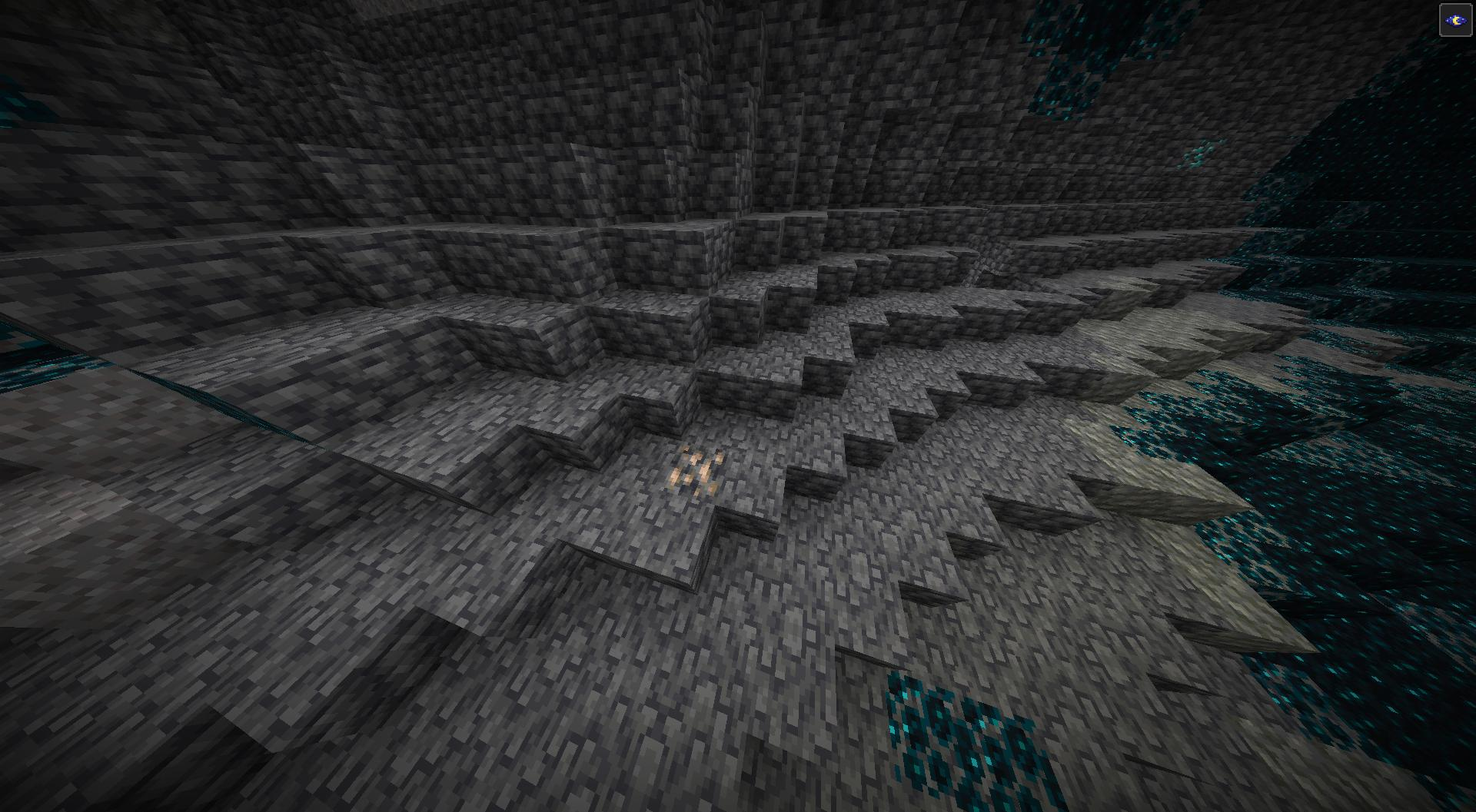diamond ore: (1181, 133, 1222, 176)
iron ore: (660, 441, 725, 495)
